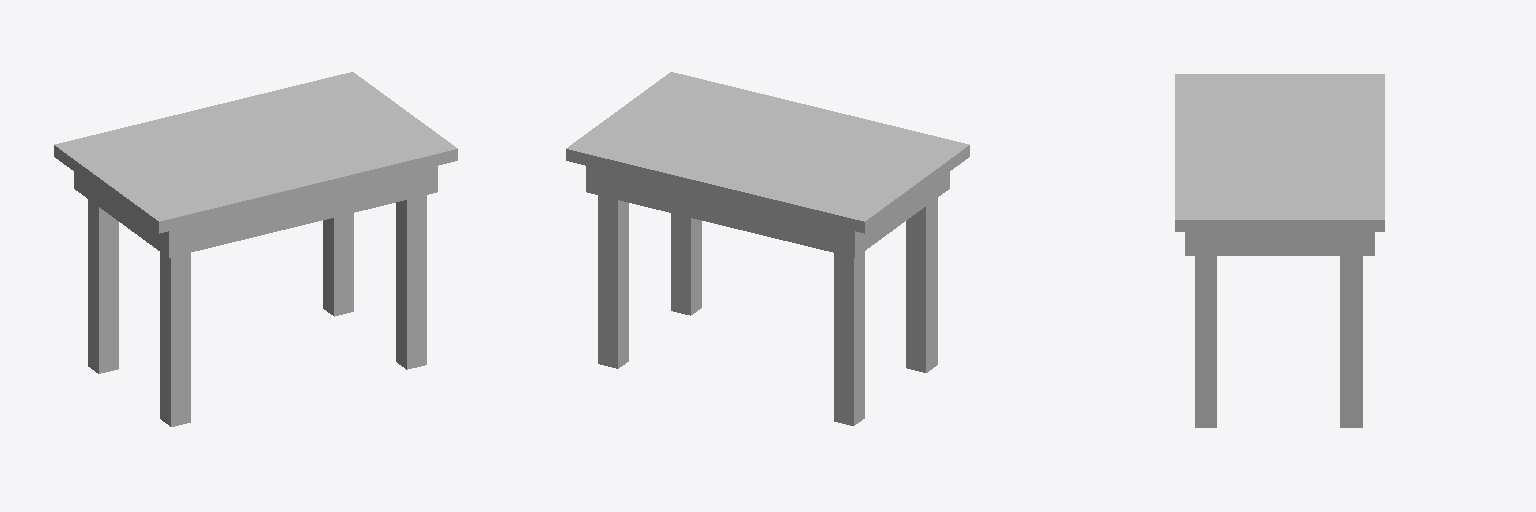
Rendered from Texture_Table.obj.
3 renders of one model, left to right at view 1: azimuth 30°, elevation 25°; view 2: azimuth 150°, elevation 25°; view 3: azimuth 270°, elevation 25°, orthographic.
Visible parts, largest first — view 1: Table_Model; view 2: Table_Model; view 3: Table_Model.
Part boxes in pixels (x1,y1,x2,y2): Table_Model: (54,72,457,426); Table_Model: (566,72,969,425); Table_Model: (1175,74,1384,427).
Size of the model in its own units: 39.56 by 27.6 by 24.13.